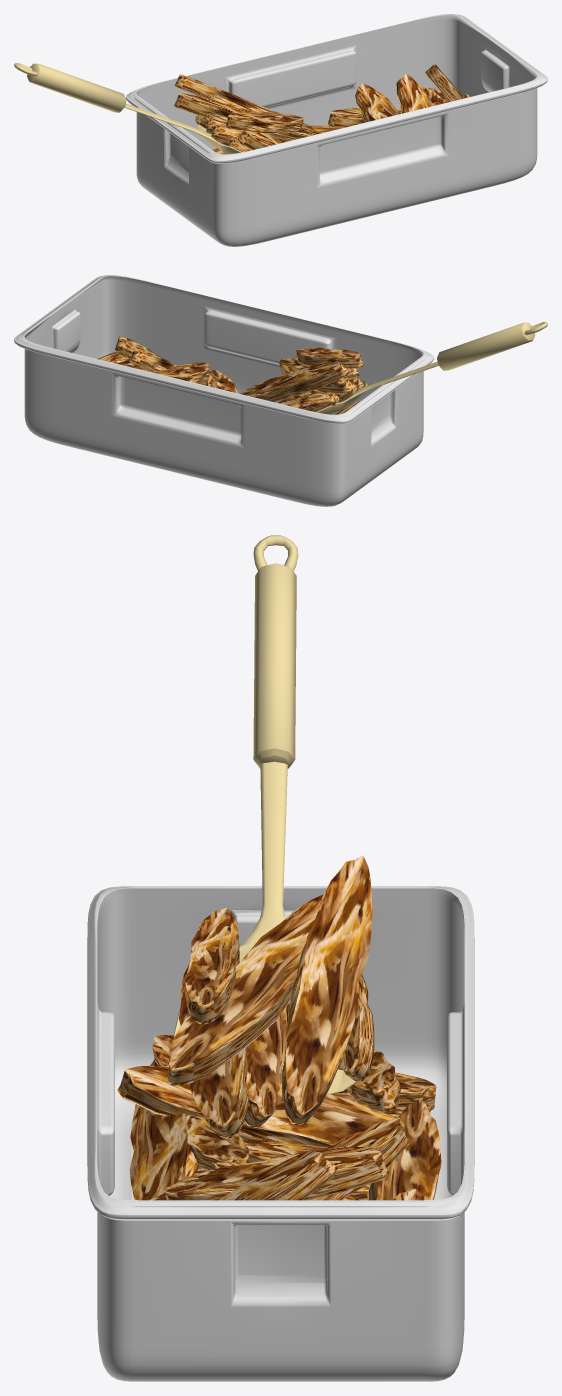
The model's file is Contenedor_pollo.fbx.
3 views of the same model, one above another, from view 1: azimuth 30°, elevation 25°; view 2: azimuth 150°, elevation 25°; view 3: azimuth 270°, elevation 25° (orthographic). The views are drawn at different scales.
Parts seen in each view (by area): view 1: Contenedor, Cuchara, Pollo.026, Pollo.029, Pollo.028, Pollo.036, Pollo.035, Pollo.034, Pollo.021, Pollo.005, Pollo.003; view 2: Contenedor, Cuchara, Pollo.028, Pollo.029, Pollo.036, Pollo.026, Pollo.027, Pollo.035, Pollo.031, Pollo.030; view 3: Contenedor, Pollo.028, Cuchara, Pollo.026, Pollo.001, Pollo.036, Pollo.015, Pollo.029, Pollo.006, Pollo.005, Pollo.003, Pollo.035 (+5 smaller).
Boxes of the visible parts, x1,y1,x2,y2 form: Contenedor: (126,14,547,246); Cuchara: (14,63,242,154); Pollo.026: (173,93,321,141); Pollo.029: (225,112,303,133); Pollo.028: (174,74,314,129); Pollo.036: (355,83,400,122); Pollo.035: (396,74,433,113); Pollo.034: (425,63,463,101); Pollo.021: (327,108,401,126); Pollo.005: (237,131,285,149); Pollo.003: (211,124,243,145); Contenedor: (14,275,434,506); Cuchara: (316,322,547,414); Pollo.028: (239,361,349,402); Pollo.029: (296,347,363,368); Pollo.036: (155,362,210,383); Pollo.026: (279,357,352,394); Pollo.027: (279,391,335,411); Pollo.035: (129,349,176,372); Pollo.031: (115,336,160,358); Pollo.030: (205,369,237,392); Contenedor: (87,886,474,1381); Pollo.028: (281,855,372,1125); Cuchara: (173,535,356,1102); Pollo.026: (167,894,323,1086); Pollo.001: (117,1065,398,1147); Pollo.036: (164,1146,389,1200); Pollo.015: (129,1059,198,1200); Pollo.029: (185,908,239,1024); Pollo.006: (367,1099,441,1200); Pollo.005: (178,959,248,1138); Pollo.003: (244,1007,287,1127); Pollo.035: (219,1150,337,1200).
Bounding box in the file's own units: 228 × 89.01 × 78.02.
